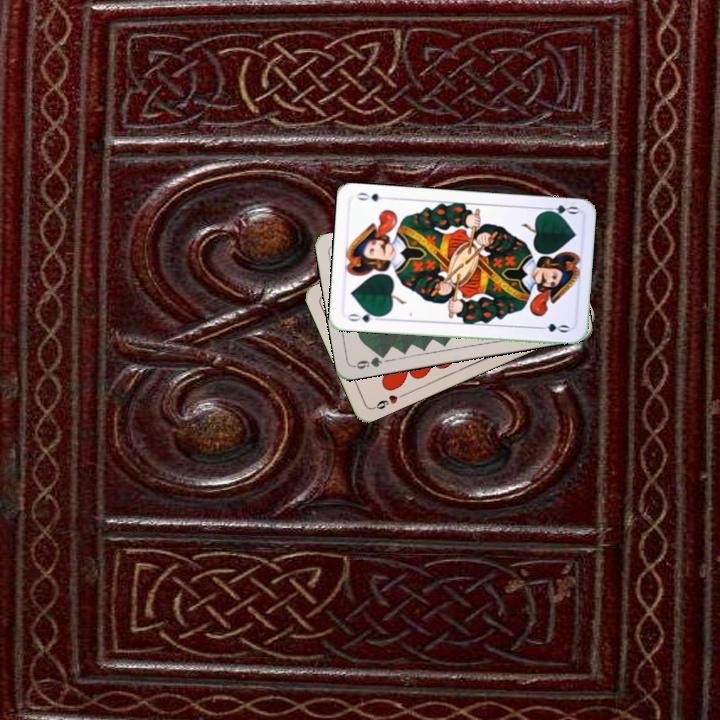G9: (350, 349, 389, 372)
GO: (539, 201, 580, 219), (343, 308, 384, 325)
H9: (368, 390, 407, 412)
